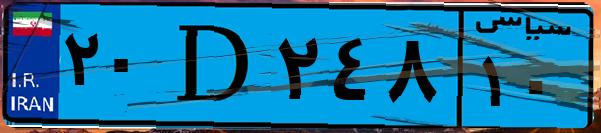0: (525, 38, 570, 115), (110, 28, 158, 98)
1: (475, 38, 525, 113)
2: (270, 28, 330, 110), (57, 26, 110, 100)
4: (330, 28, 385, 110)
8: (385, 28, 445, 110)
D: (158, 12, 270, 120)
